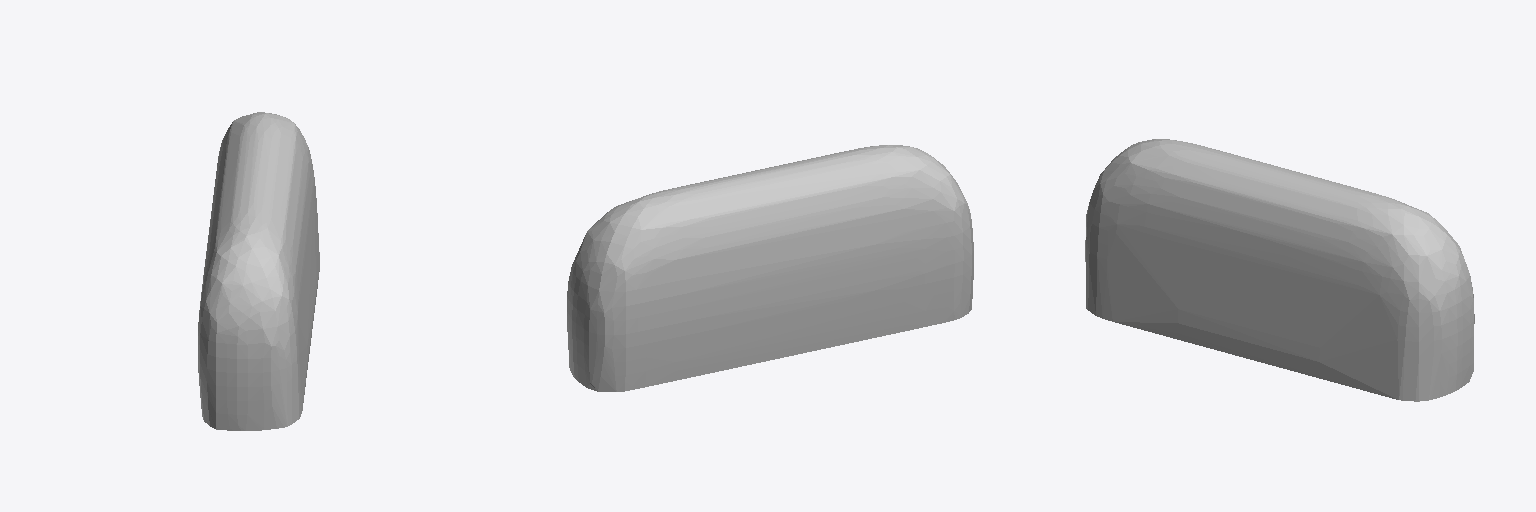
The model's file is sofa_collision_0.obj.
3 views of the same model, side by side, from view 1: azimuth 30°, elevation 25°; view 2: azimuth 150°, elevation 25°; view 3: azimuth 270°, elevation 25° (orthographic).
Bounding box in the file's own units: 176 × 112 × 235.